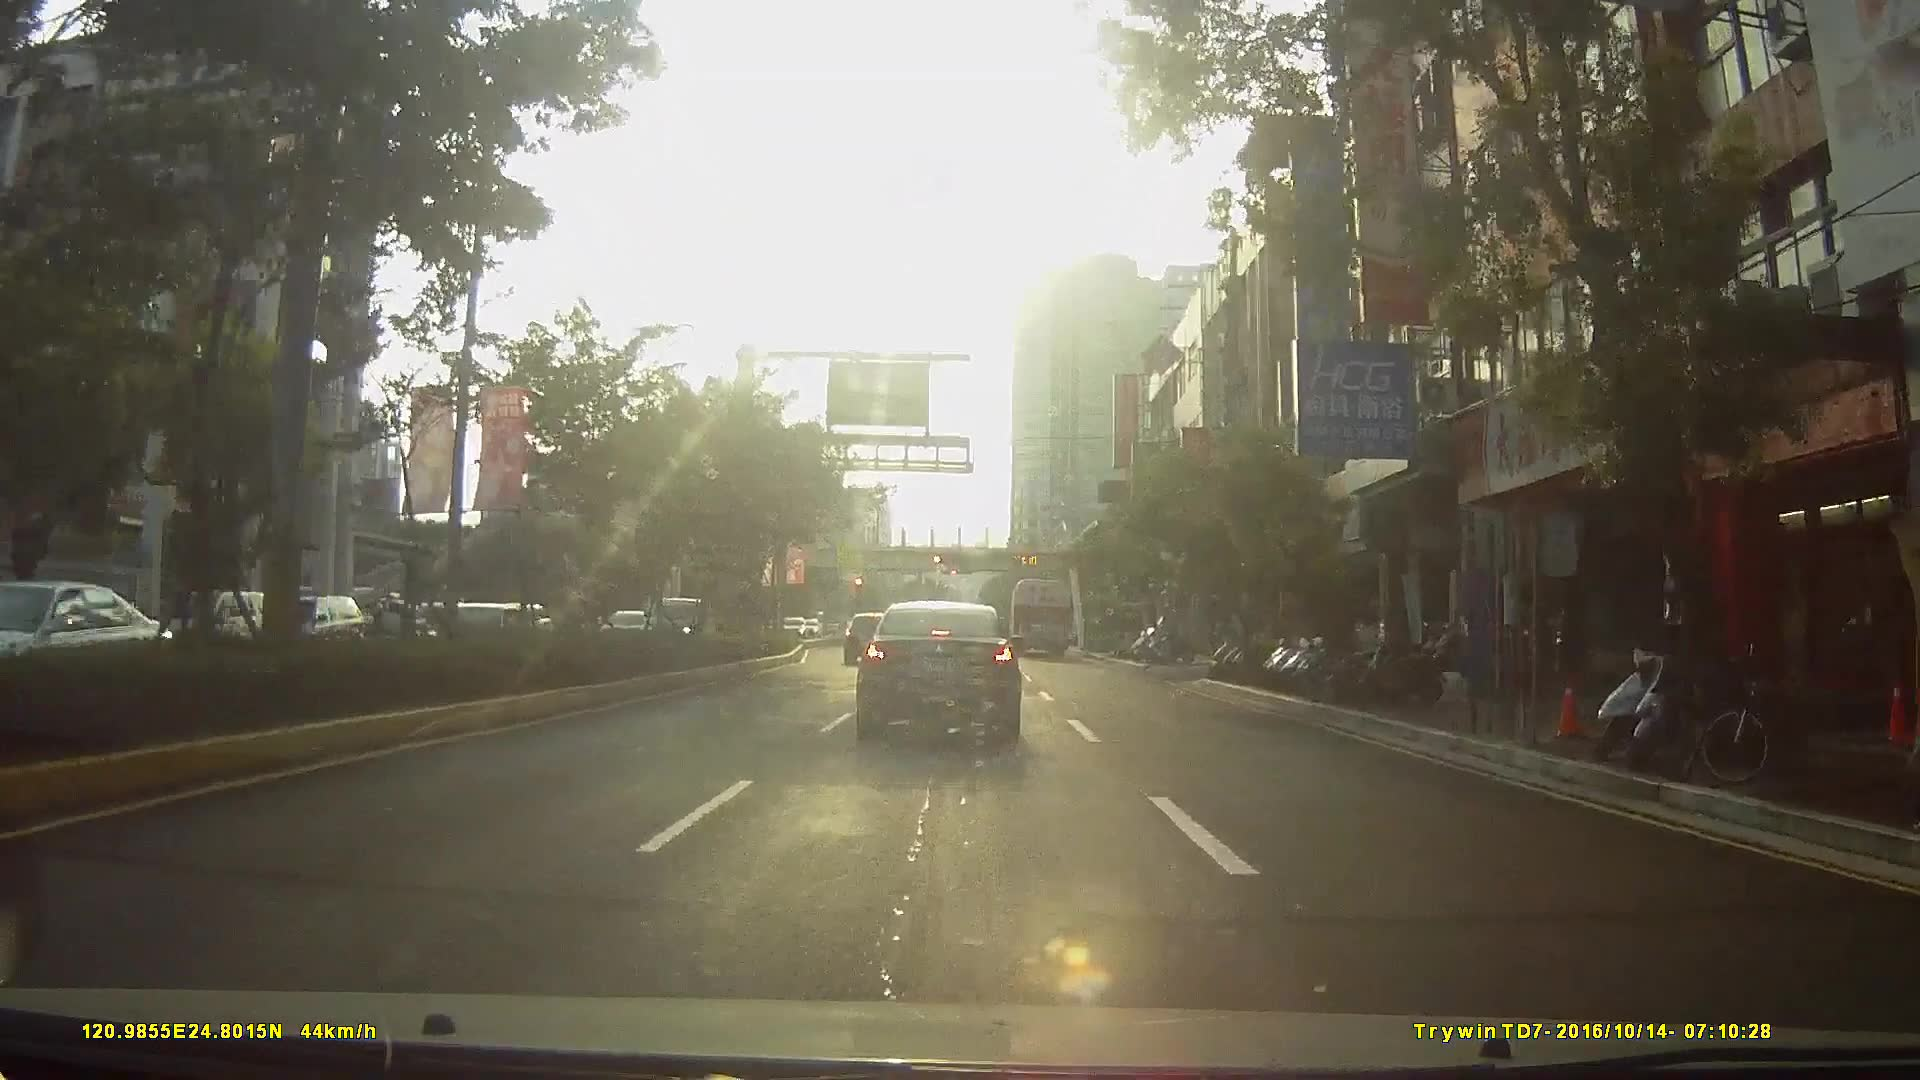vehicle: (855, 597, 1023, 744), (1, 583, 206, 694), (146, 585, 265, 657), (258, 591, 361, 654), (1007, 574, 1077, 655), (843, 609, 895, 662)
